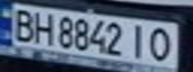2: (103, 19, 127, 57)
4: (87, 18, 109, 55)
8: (54, 14, 75, 48), (72, 16, 90, 52)
B: (6, 7, 39, 43)
H: (30, 10, 57, 45)
I: (124, 21, 151, 60)
O: (145, 25, 178, 63)
